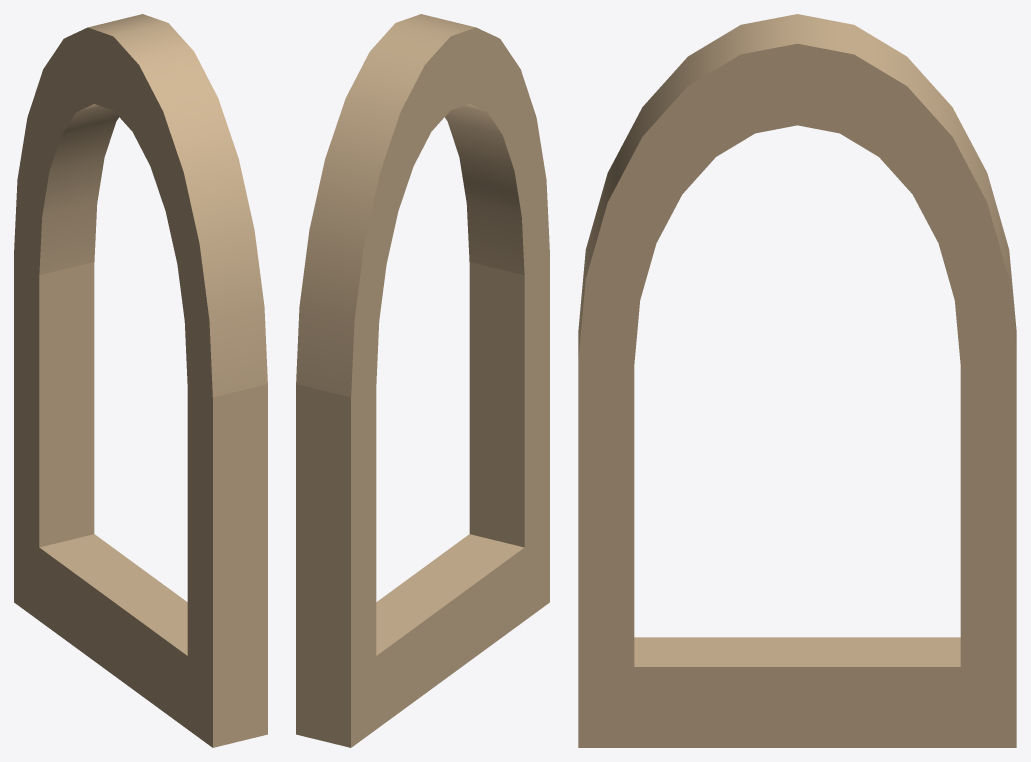
The model's file is Building Frame 14.fbx.
3 renders of one model, left to right at view 1: azimuth 30°, elevation 25°; view 2: azimuth 150°, elevation 25°; view 3: azimuth 270°, elevation 25°, orthographic. The views are drawn at different scales.
Parts seen in each view (by area): view 1: Building Frame 14; view 2: Building Frame 14; view 3: Building Frame 14.
Boxes of the visible parts, bbox=[...] form: Building Frame 14: bbox=[14, 14, 267, 747]; Building Frame 14: bbox=[296, 14, 549, 747]; Building Frame 14: bbox=[578, 14, 1016, 747].
Size of the model in its own units: 0.05 by 0.554 by 0.3125.
